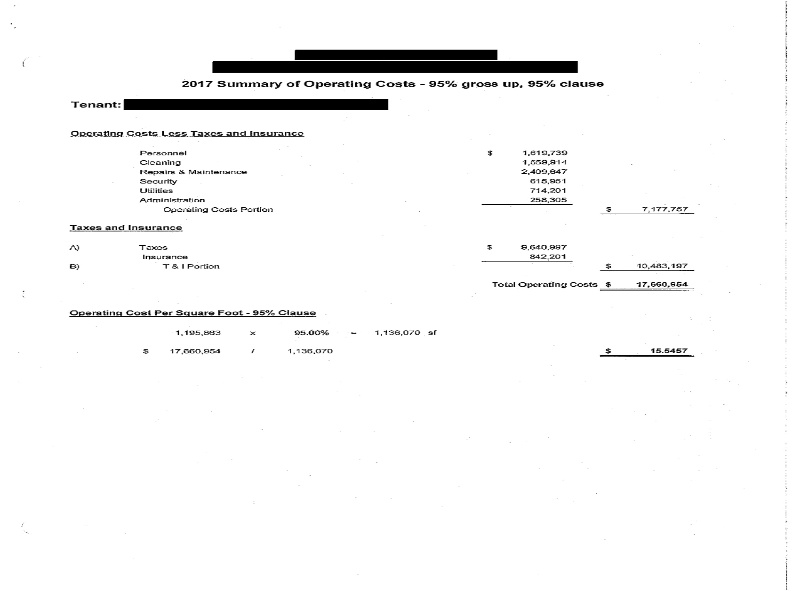table: (66, 125, 697, 297), (66, 305, 701, 368)
